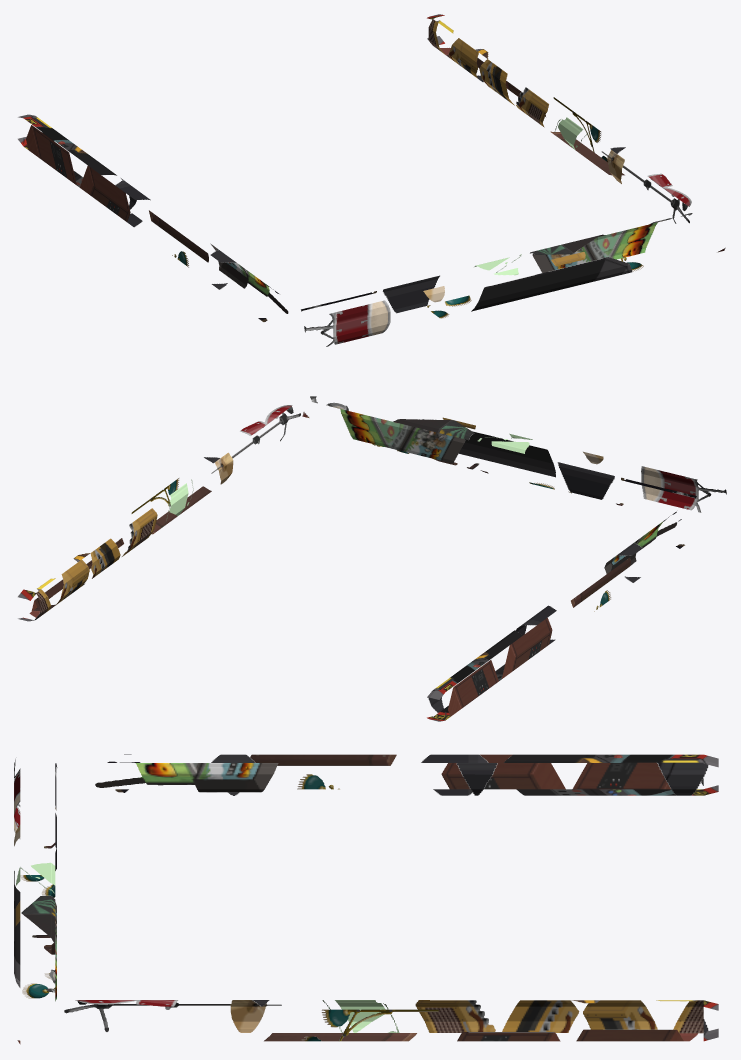
The picture shows the model from 3 angles, top to bottom: view 1: azimuth 30°, elevation 25°; view 2: azimuth 150°, elevation 25°; view 3: azimuth 270°, elevation 25°; orthographic projection. The views are drawn at different scales.
Bounding box in the file's own units: 1 × 0.0792 × 1.19.
